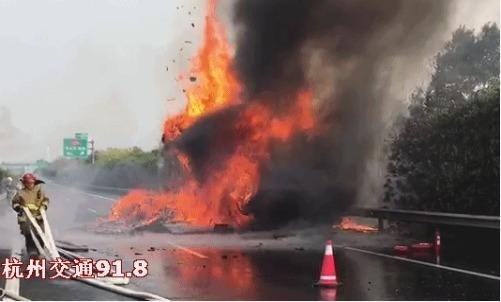fire: (111, 15, 358, 235)
